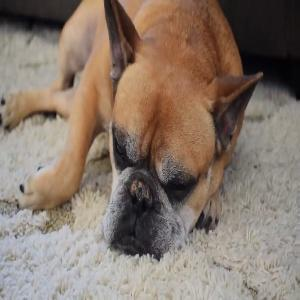keratosis: (128, 175, 153, 209)
